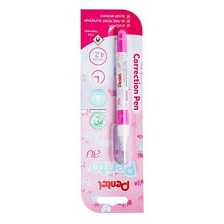book: (77, 5, 149, 217)
correction_fluid: (108, 26, 133, 167)
